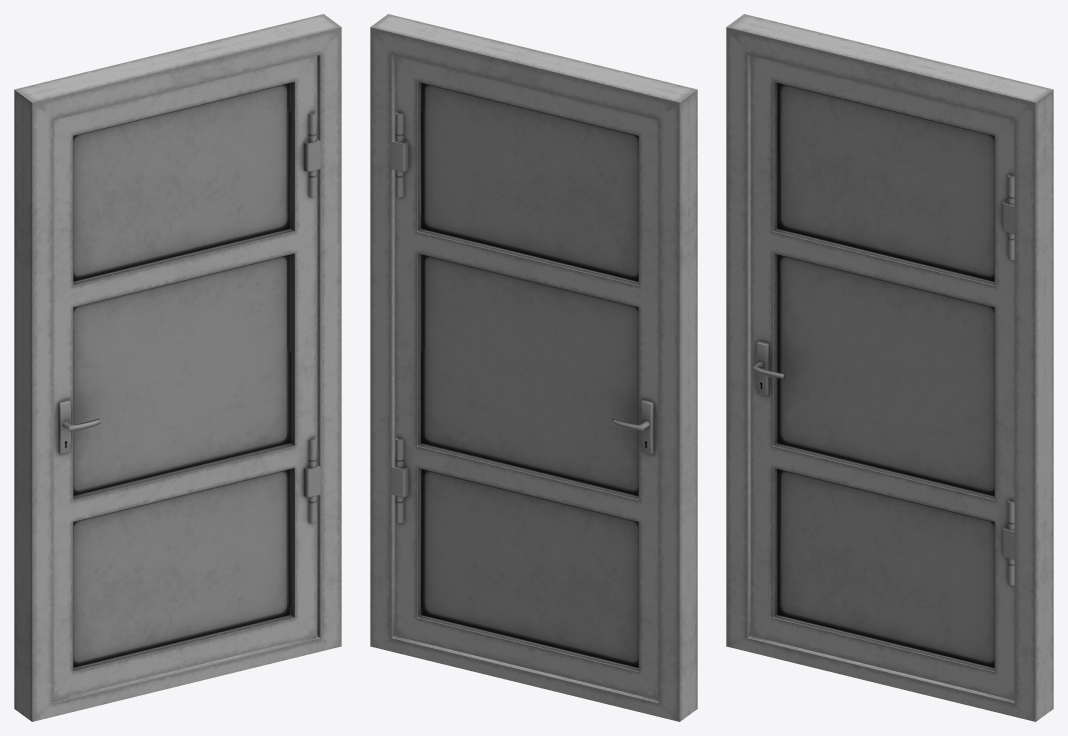
The model's file is Warehouse Office Door 4 A.fbx.
3 renders of one model, left to right at view 1: azimuth 30°, elevation 25°; view 2: azimuth 150°, elevation 25°; view 3: azimuth 330°, elevation 25°, orthographic.
Visible parts, largest first — view 1: WH_Office_Door_4_A_Base, WH_Office_Door_4_A_Door_Frame; view 2: WH_Office_Door_4_A_Base, WH_Office_Door_4_A_Door_Frame; view 3: WH_Office_Door_4_A_Base, WH_Office_Door_4_A_Door_Frame.
Part boxes in pixels (box(x1,y1,x2,y2)): WH_Office_Door_4_A_Base: box(53, 56, 320, 699); WH_Office_Door_4_A_Door_Frame: box(14, 14, 341, 721); WH_Office_Door_4_A_Base: box(391, 56, 658, 699); WH_Office_Door_4_A_Door_Frame: box(370, 14, 697, 721); WH_Office_Door_4_A_Base: box(750, 56, 1014, 699); WH_Office_Door_4_A_Door_Frame: box(726, 14, 1053, 721).
Bounding box in the file's own units: 115 × 220 × 20.02.
